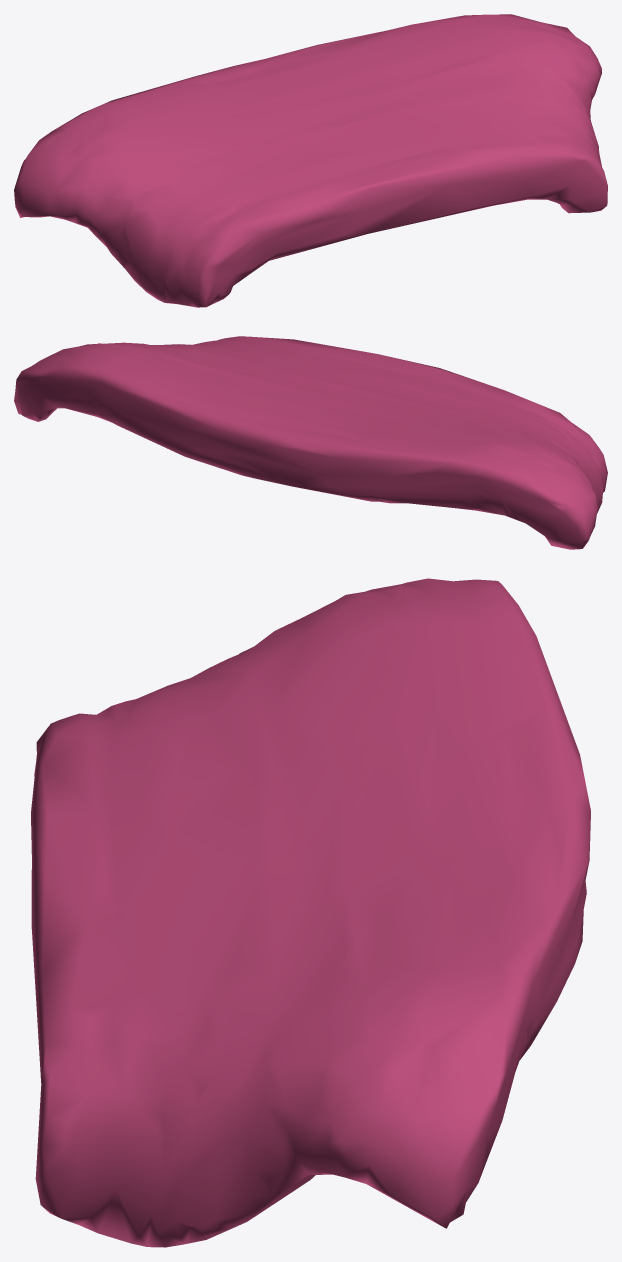
3 views of the same model, one above another, from view 1: azimuth 30°, elevation 25°; view 2: azimuth 150°, elevation 25°; view 3: azimuth 270°, elevation 25° (orthographic). The views are drawn at different scales.
Visible parts, largest first — view 1: 杓横肌; view 2: 杓横肌; view 3: 杓横肌.
Part boxes in pixels (left/top/right/bottom): 杓横肌: left=14, top=14, right=607, bottom=307; 杓横肌: left=14, top=336, right=607, bottom=549; 杓横肌: left=31, top=578, right=590, bottom=1247.
Size of the model in its own units: 0.0216 by 0.0045 by 0.00917.
